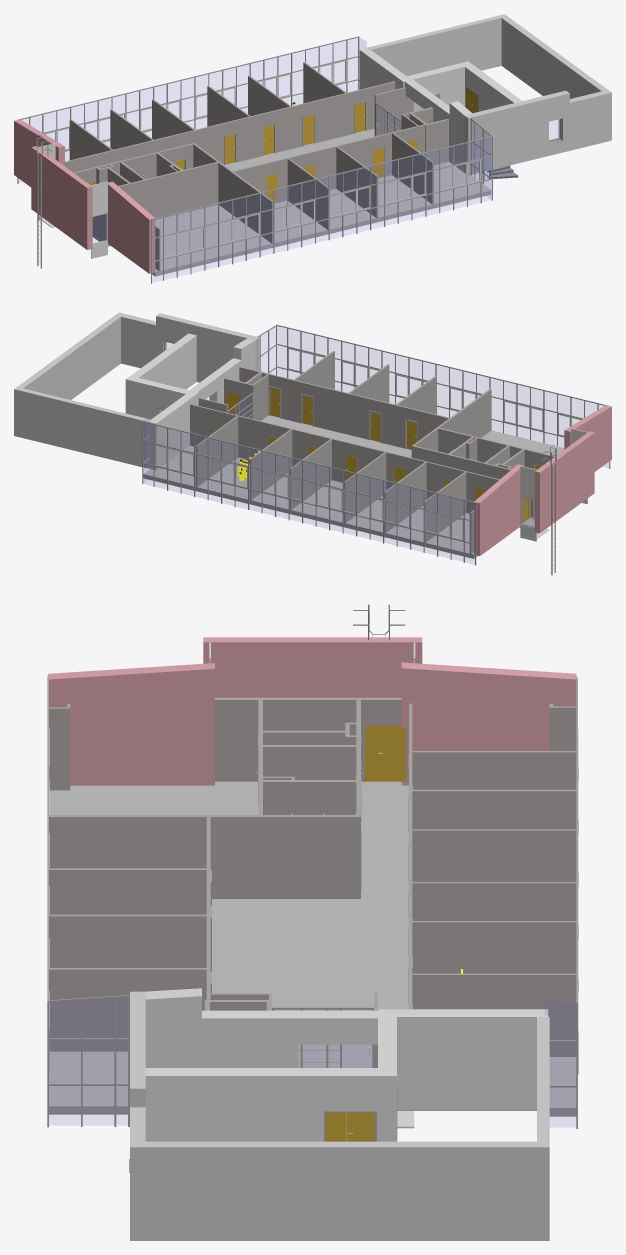
Rendered from Riihimaki4F.glb.
The picture shows the model from 3 angles, top to bottom: view 1: azimuth 30°, elevation 25°; view 2: azimuth 150°, elevation 25°; view 3: azimuth 270°, elevation 25°; orthographic projection. The views are drawn at different scales.
Visible parts, largest first — view 1: IfcSlab/Floor:VP 300mm:848017, AdditionalWall4F, IfcWallStandardCase/Basic Wall:VS - 110mm:851146, IfcWallStandardCase/Basic Wall:US kantava - 500mm:882645, IfcWallStandardCase/Basic Wall:Exterior - Brick on Mtl. Stu. (×2), IfcWallStandardCase/Basic Wall:VS - 120mm:870801, IfcWallStandardCase/Basic Wall:VS - 140mm:859298, IfcWallStandardCase/Basic Wall:Exterior - Brick on Mtl. Stu, IfcWallStandardCase/Basic Wall:VS - 150mm:858564, IfcWallStandardCase/Basic Wall:VS Kantava- 600mm:892211, IfcWallStandardCase/Basic Wall:VS - 120mm:870328, IfcWallStandardCase/Basic Wall:VS - 120mm:870601 (+20 smaller); view 2: AdditionalWall4F, IfcSlab/Floor:VP 300mm:848017, IfcWallStandardCase/Basic Wall:Exterior - Brick on Mtl. Stu. (×2), IfcWallStandardCase/Basic Wall:VS - 110mm:851146, IfcWallStandardCase/Basic Wall:VS - 120mm:870801, IfcWallStandardCase/Basic Wall:US kantava - 500mm:882645, 4F1, IfcWallStandardCase/Basic Wall:VS Kantava- 600mm:893944, IfcWallStandardCase/Basic Wall:VS - 150mm:858564, IfcWallStandardCase/Basic Wall:VS Kantava- 600mm:889763, IfcWallStandardCase/Basic Wall:VS - 110mm:855382, IfcWallStandardCase/Basic Wall:VS - 110mm:855288 (+19 smaller); view 3: AdditionalWall4F, IfcSlab/Floor:VP 300mm:848017, IfcWallStandardCase/Basic Wall:Exterior - Brick on Mtl. Stu. (×2), IfcWallStandardCase/Basic Wall:VS - 150mm:858564, IfcWallStandardCase/Basic Wall:Exterior - Brick on Mtl. Stu, IfcWallStandardCase/Basic Wall:VS Kantava- 600mm:893944, 4F1, IfcWallStandardCase/Basic Wall:VS Kantava- 600mm:892211, IfcWallStandardCase/Basic Wall:VS - 110mm:851153, IfcWallStandardCase/Basic Wall:VS - 110mm:855288, IfcWallStandardCase/Basic Wall:VS - 120mm:870328, IfcWallStandardCase/Basic Wall:VS - 120mm:870601 (+27 smaller).
Boxes of the visible parts, box(x1,y1,x2,y2) form: IfcSlab/Floor:VP 300mm:848017: box(92, 129, 491, 276); AdditionalWall4F: box(368, 14, 611, 150); IfcWallStandardCase/Basic Wall:VS - 110mm:851146: box(65, 81, 395, 172); IfcWallStandardCase/Basic Wall:US kantava - 500mm:882645: box(464, 90, 569, 175); IfcWallStandardCase/Basic Wall:Exterior - Brick on Mtl. Stu. (×2): box(14, 119, 92, 249); IfcWallStandardCase/Basic Wall:VS - 120mm:870801: box(233, 124, 425, 202); IfcWallStandardCase/Basic Wall:VS - 140mm:859298: box(118, 162, 218, 219); IfcWallStandardCase/Basic Wall:Exterior - Brick on Mtl. Stu: box(107, 181, 155, 273); IfcWallStandardCase/Basic Wall:VS - 150mm:858564: box(193, 144, 273, 243); IfcWallStandardCase/Basic Wall:VS Kantava- 600mm:892211: box(404, 79, 471, 172); IfcWallStandardCase/Basic Wall:VS - 120mm:870328: box(336, 146, 378, 218); IfcWallStandardCase/Basic Wall:VS - 120mm:870601: box(392, 133, 433, 204); AdditionalWall4F: box(14, 312, 155, 468); IfcSlab/Floor:VP 300mm:848017: box(143, 415, 564, 558); IfcWallStandardCase/Basic Wall:Exterior - Brick on Mtl. Stu. (×2): box(474, 431, 594, 555); IfcWallStandardCase/Basic Wall:VS - 110mm:851146: box(190, 404, 499, 513); IfcWallStandardCase/Basic Wall:VS - 120mm:870801: box(262, 372, 449, 448); IfcWallStandardCase/Basic Wall:US kantava - 500mm:882645: box(156, 313, 259, 382); 4F1: box(148, 390, 198, 470); IfcWallStandardCase/Basic Wall:VS Kantava- 600mm:893944: box(131, 333, 196, 389); IfcWallStandardCase/Basic Wall:VS - 150mm:858564: box(413, 389, 491, 451); IfcWallStandardCase/Basic Wall:VS Kantava- 600mm:889763: box(125, 376, 189, 419); IfcWallStandardCase/Basic Wall:VS - 110mm:855382: box(195, 416, 238, 486); IfcWallStandardCase/Basic Wall:VS - 110mm:855288: box(249, 429, 292, 500); AdditionalWall4F: box(130, 1017, 549, 1240); IfcSlab/Floor:VP 300mm:848017: box(49, 781, 576, 1141); IfcWallStandardCase/Basic Wall:Exterior - Brick on Mtl. Stu. (×2): box(203, 637, 576, 785); IfcWallStandardCase/Basic Wall:VS - 150mm:858564: box(49, 815, 356, 898); IfcWallStandardCase/Basic Wall:Exterior - Brick on Mtl. Stu: box(48, 663, 214, 785); IfcWallStandardCase/Basic Wall:VS Kantava- 600mm:893944: box(145, 1068, 377, 1141); 4F1: box(378, 1009, 548, 1110); IfcWallStandardCase/Basic Wall:VS Kantava- 600mm:892211: box(145, 988, 377, 1067); IfcWallStandardCase/Basic Wall:VS - 110mm:851153: box(412, 829, 576, 881); IfcWallStandardCase/Basic Wall:VS - 110mm:855288: box(412, 921, 576, 973); IfcWallStandardCase/Basic Wall:VS - 120mm:870328: box(49, 914, 206, 967); IfcWallStandardCase/Basic Wall:VS - 120mm:870601: box(49, 968, 206, 1051).
Bounding box in the file's own units: 36.85 × 8.77 × 17.04.
